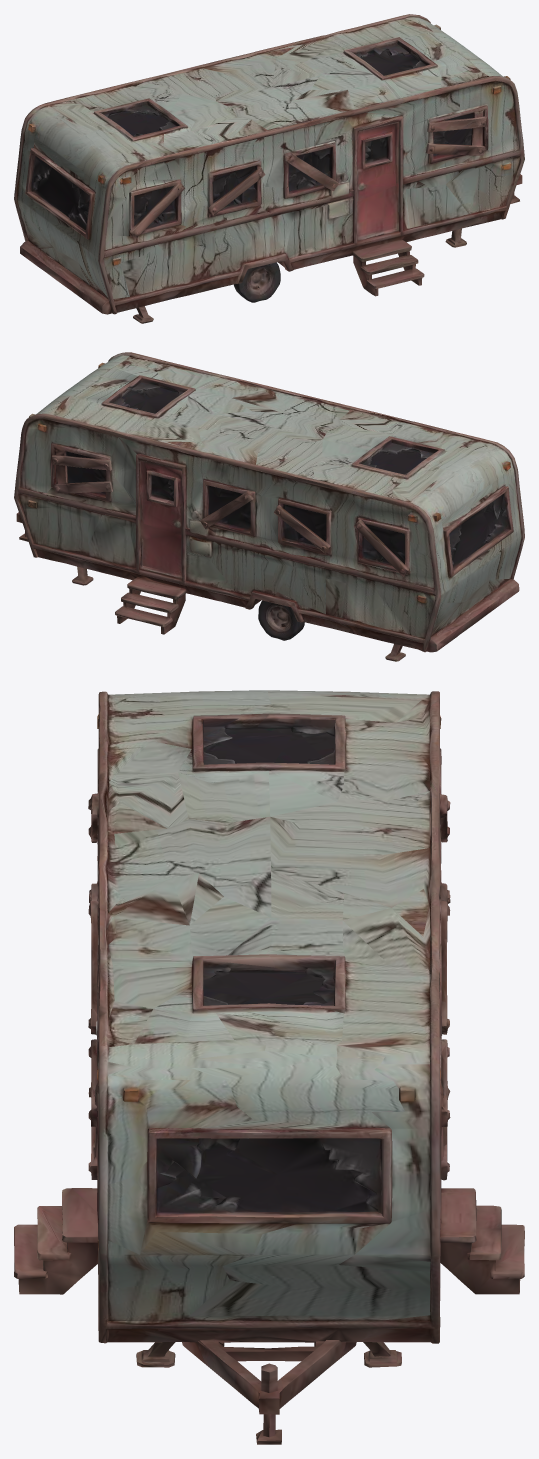
Rendered from house_trailer_d_idle.glb.
3 renders of one model, top to bottom at view 1: azimuth 30°, elevation 25°; view 2: azimuth 150°, elevation 25°; view 3: azimuth 270°, elevation 25°, orthographic. The views are drawn at different scales.
Parts seen in each view (by area): view 1: tripo_node_968722d0-8621-4c14-9e42-9fb8f42d45f0; view 2: tripo_node_968722d0-8621-4c14-9e42-9fb8f42d45f0; view 3: tripo_node_968722d0-8621-4c14-9e42-9fb8f42d45f0.
Boxes of the visible parts, bbox=[...] form: tripo_node_968722d0-8621-4c14-9e42-9fb8f42d45f0: bbox=[14, 14, 524, 323]; tripo_node_968722d0-8621-4c14-9e42-9fb8f42d45f0: bbox=[14, 352, 524, 661]; tripo_node_968722d0-8621-4c14-9e42-9fb8f42d45f0: bbox=[14, 690, 524, 1444].
Bounding box in the file's own units: 8 × 2.89 × 3.86.
1 material, 1 textured.
